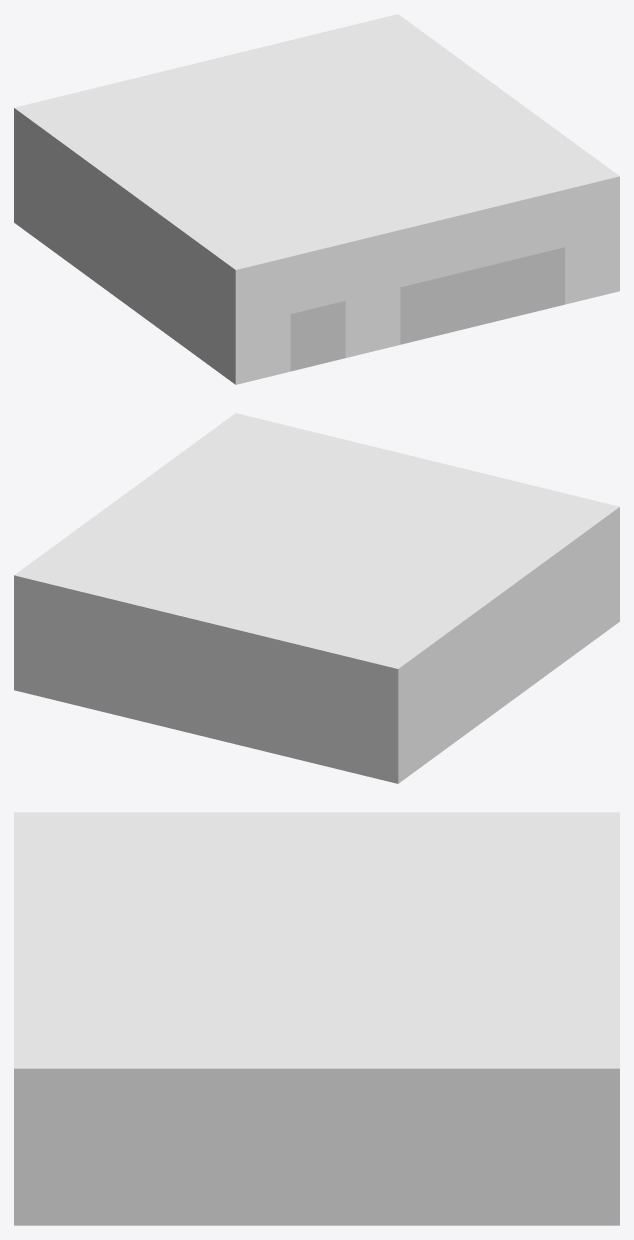
The model's file is Office_Misc_Console_Woo_03.gltf.
3 views of the same model, one above another, from view 1: azimuth 30°, elevation 25°; view 2: azimuth 150°, elevation 25°; view 3: azimuth 270°, elevation 25° (orthographic). The views are drawn at different scales.
Parts seen in each view (by area): view 1: Node; view 2: Node; view 3: Node.
Part boxes in pixels (left/top/right/bottom): Node: left=14, top=14, right=619, bottom=384; Node: left=14, top=413, right=619, bottom=783; Node: left=14, top=812, right=619, bottom=1225.
Bounding box in the file's own units: 0.7 × 0.2 × 0.7.
1 material, 1 textured.
